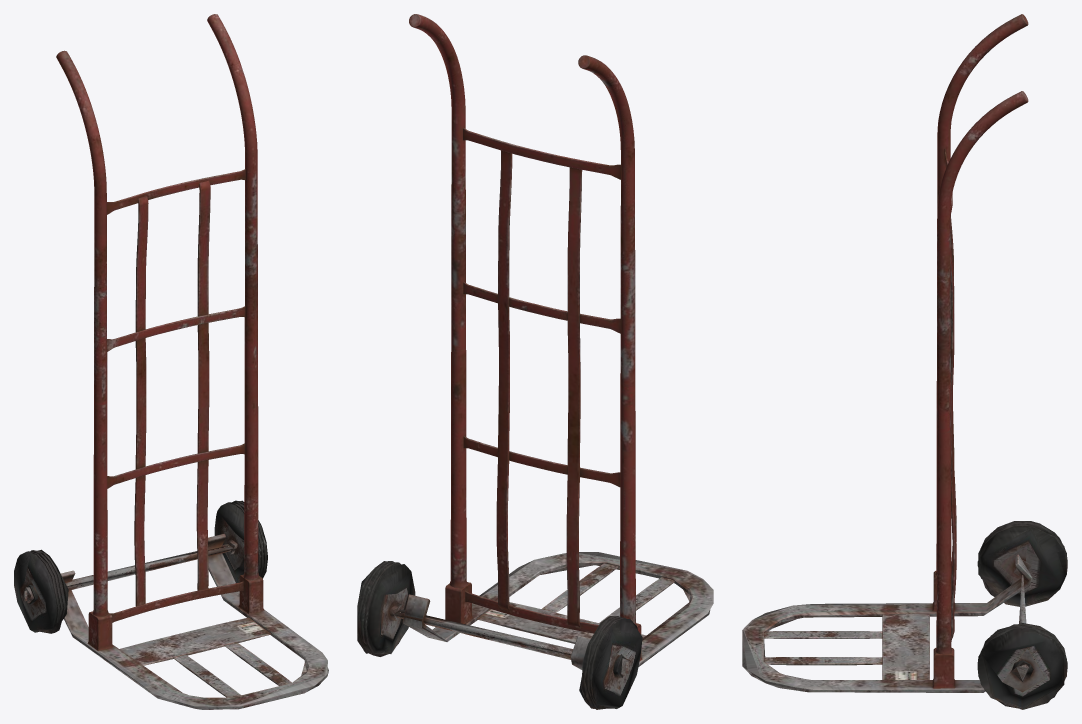
File: hand_truck.glb
3 renders of one model, left to right at view 1: azimuth 30°, elevation 25°; view 2: azimuth 150°, elevation 25°; view 3: azimuth 270°, elevation 25°, orthographic. The views are drawn at different scales.
Visible parts, largest first — view 1: hand_truck; view 2: hand_truck; view 3: hand_truck.
Part boxes in pixels (box(x1,y1,x2,y2)): hand_truck: box(14, 14, 328, 709); hand_truck: box(357, 14, 713, 709); hand_truck: box(742, 14, 1067, 709).
Size of the model in its own units: 0.5933 by 1.4 by 0.6878.
Materials: 1 (1 with a texture image).
